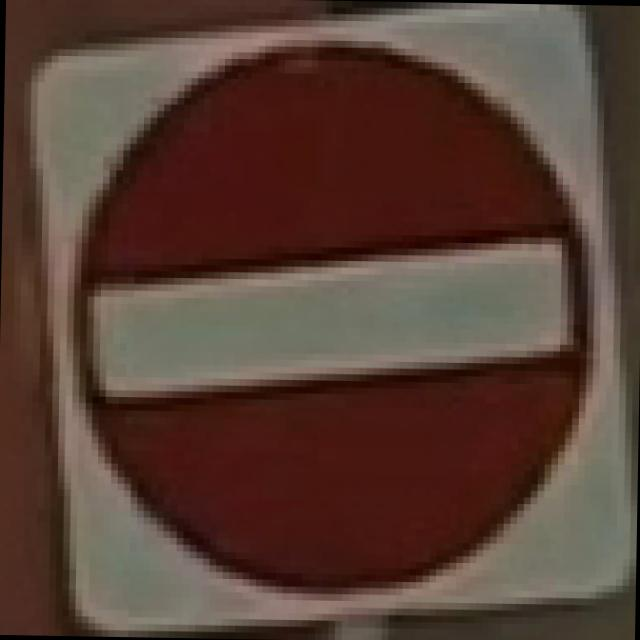noentry_sign: (13, 0, 638, 638)
